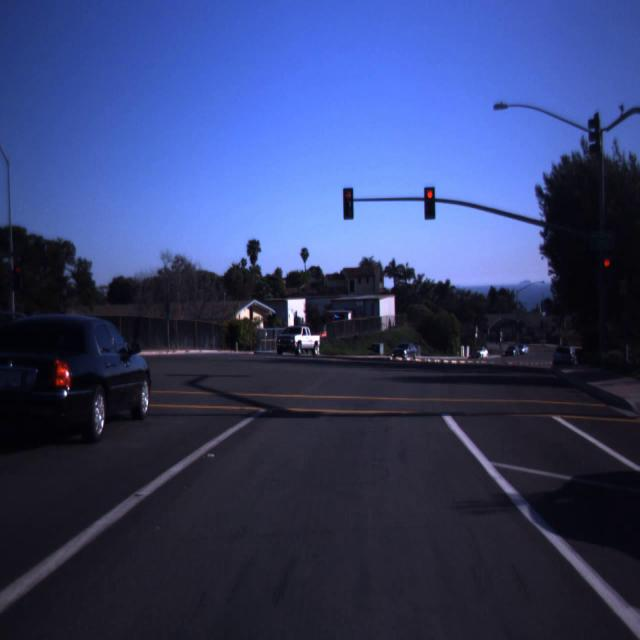kirmizi: (425, 187, 435, 219)
